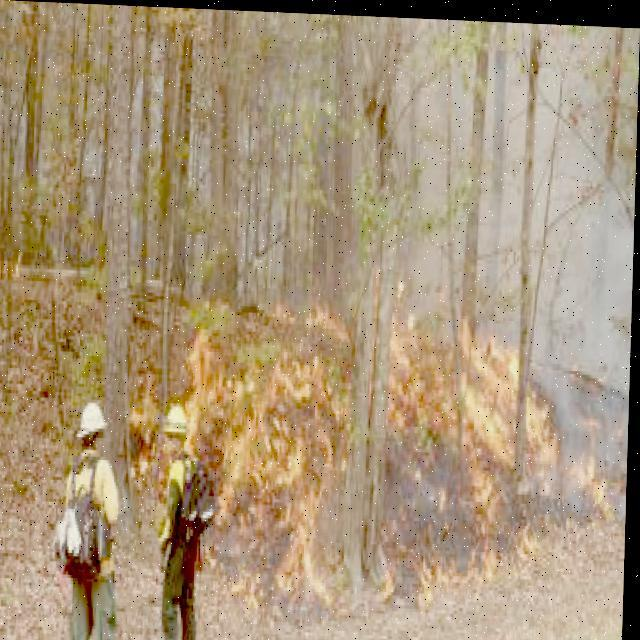Fire: (160, 248, 605, 602)
